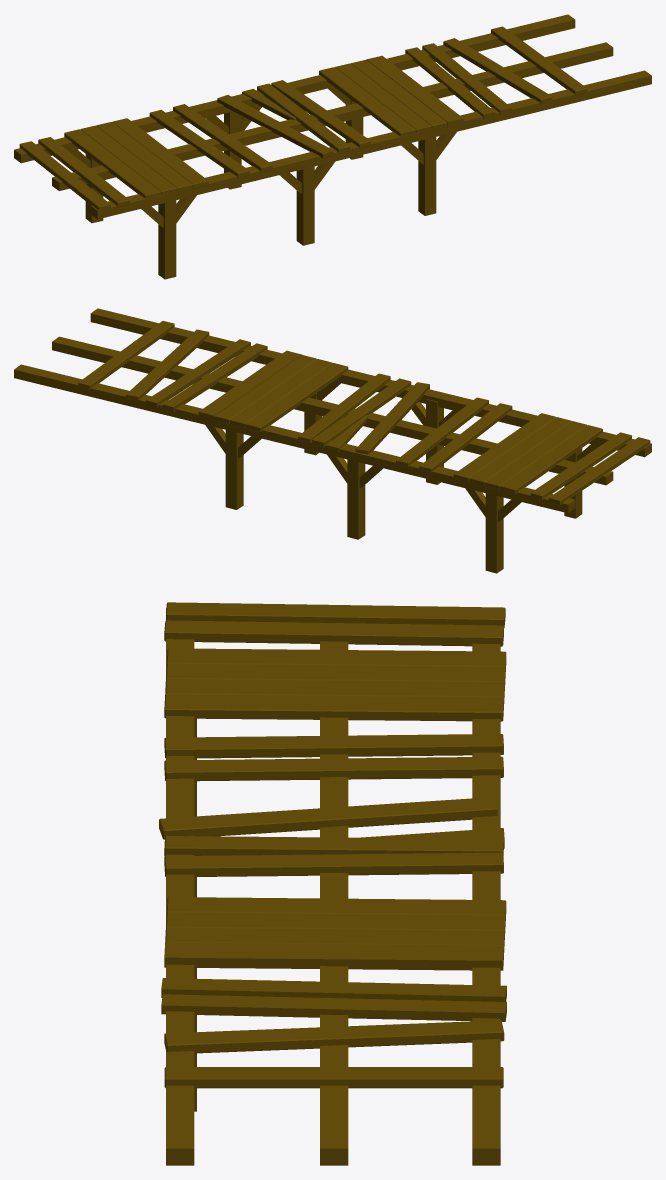
Rendered from brokendock.fbx.
3 views of the same model, one above another, from view 1: azimuth 30°, elevation 25°; view 2: azimuth 150°, elevation 25°; view 3: azimuth 270°, elevation 25° (orthographic). The views are drawn at different scales.
Visible parts, largest first — view 1: Cube.007; view 2: Cube.007; view 3: Cube.007.
Boxes of the visible parts, box(x1,y1,x2,y2) form: Cube.007: box(14, 14, 651, 279); Cube.007: box(14, 308, 651, 573); Cube.007: box(159, 602, 506, 1165).
Bounding box in the file's own units: 2532 × 393 × 689.
